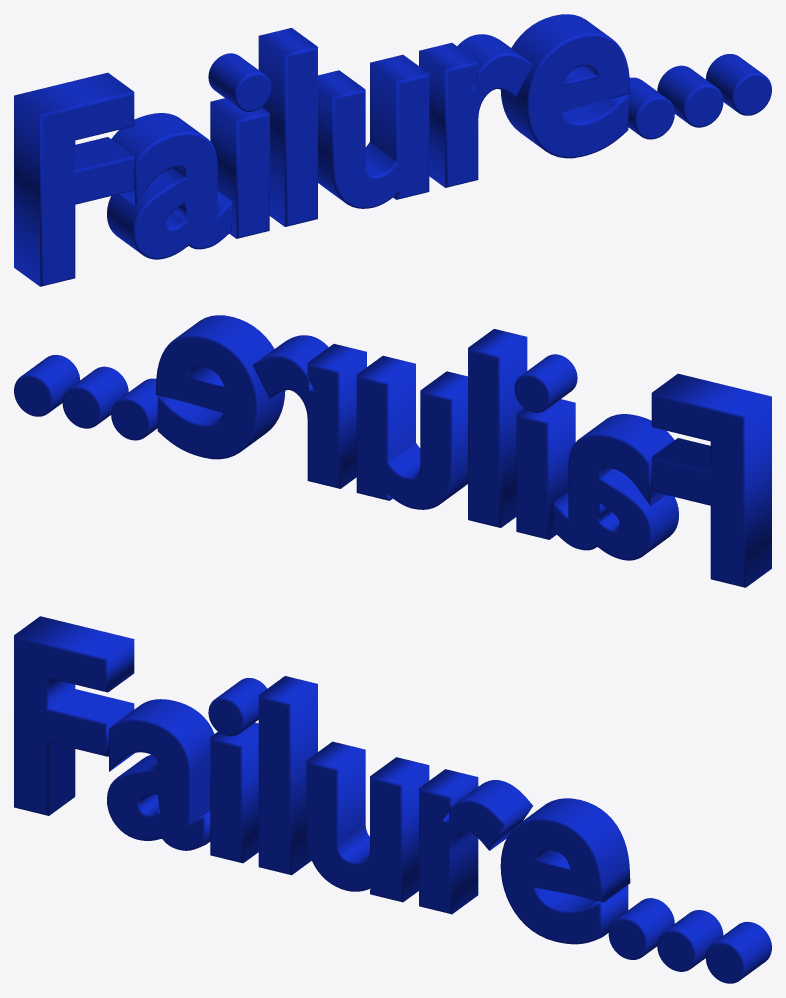
File: Failure.fbx
3 renders of one model, top to bottom at view 1: azimuth 30°, elevation 25°; view 2: azimuth 150°, elevation 25°; view 3: azimuth 330°, elevation 25°, orthographic.
Parts seen in each view (by area): view 1: Text; view 2: Text; view 3: Text.
Boxes of the visible parts, x1,y1,x2,y2 form: Text: (14,14,771,286); Text: (14,315,771,587); Text: (14,616,771,983).
Bounding box in the file's own units: 330 × 75.11 × 22.
